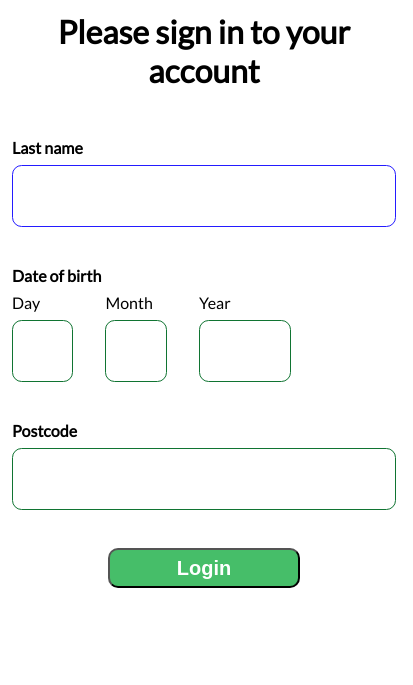
Test: Login Form Validation › should display maximum limit error when last name is longer than 50 characters
In the field labelled "Last name": (204, 196) [12,165,396,227], type "123456789012345678901234567890123456789012345678901"
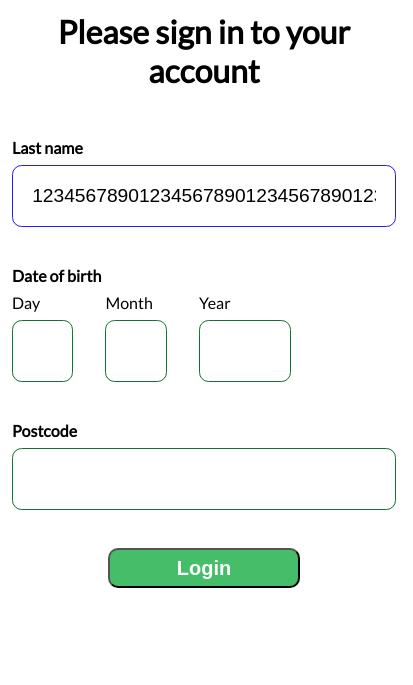
Submit the form from the button, box [108,548,300,588]
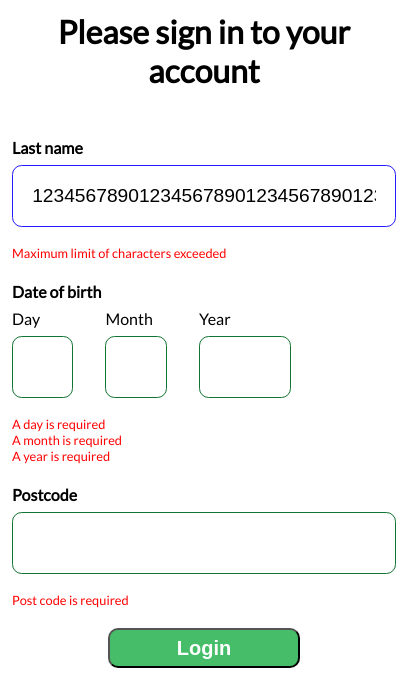
Now the number of messages is 5, box [12,245,226,261]; [12,416,105,432]; [12,432,122,448]; [12,448,110,464]; [12,592,129,608]
Now the text "Maximum limit of characters exceeded" is shown, box [12,245,226,261]
